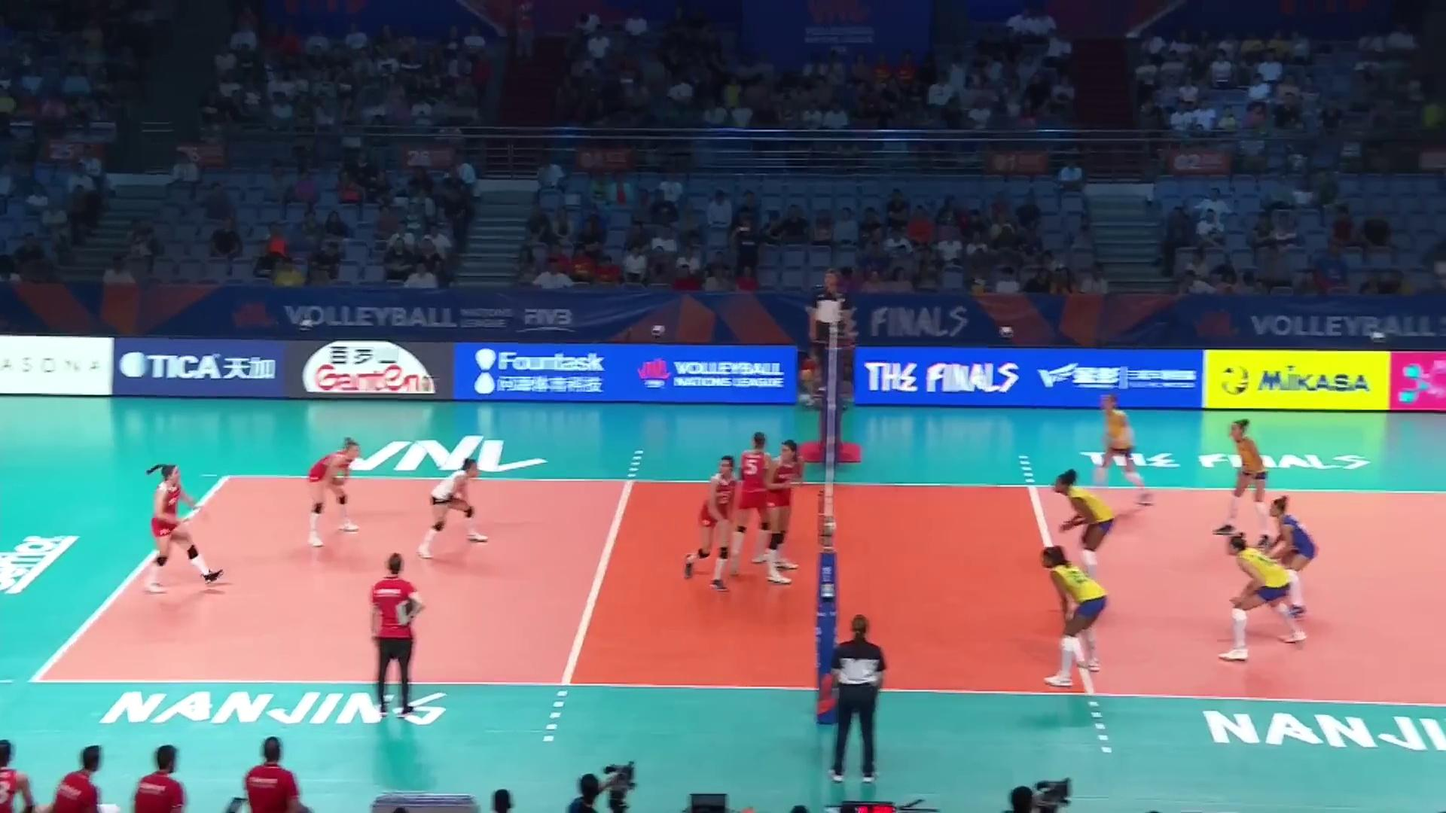player: (146, 465, 232, 593), (1223, 536, 1306, 665), (1037, 543, 1107, 687), (414, 457, 489, 557), (1053, 471, 1114, 593), (684, 458, 740, 590), (726, 432, 777, 575), (1091, 395, 1157, 504), (1217, 419, 1274, 541), (302, 439, 363, 542), (764, 441, 807, 586), (1267, 496, 1319, 614)
refree: (828, 617, 888, 783), (809, 271, 854, 391)
